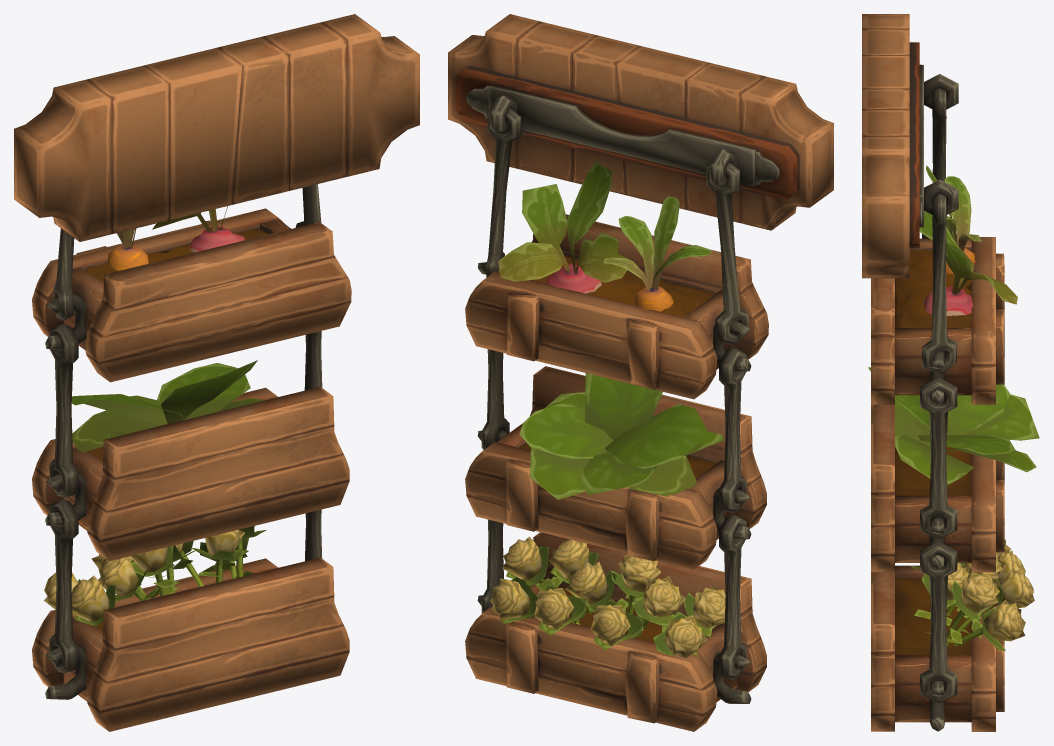
File: PlantShelf.obj
3 renders of one model, left to right at view 1: azimuth 30°, elevation 25°; view 2: azimuth 150°, elevation 25°; view 3: azimuth 270°, elevation 25°, orthographic. The views are drawn at different scales.
Visible parts, largest first — view 1: wallholder, shelf_modular_1, shelf_first, shelf_modular, flowers, spinnach, connector_modular, connector_modular_1, connector_first, rutabaga, carrot; view 2: wallholder, shelf_first, shelf_modular_1, shelf_modular, spinnach, flowers, rutabaga, connector_first, connector_modular, connector_modular_1, carrot; view 3: wallholder, shelf_first, shelf_modular_1, shelf_modular, spinnach, flowers, connector_first, connector_modular_1, connector_modular, rutabaga, carrot.
Boxes of the visible parts, x1,y1,x2,y2 form: wallholder: [14, 14, 419, 241]; shelf_modular_1: [32, 557, 349, 731]; shelf_first: [32, 208, 351, 382]; shelf_modular: [32, 387, 349, 561]; flowers: [44, 526, 266, 626]; spinnach: [71, 360, 265, 452]; connector_modular: [49, 324, 322, 497]; connector_modular_1: [49, 499, 322, 673]; connector_first: [54, 184, 321, 320]; rutabaga: [152, 206, 245, 252]; carrot: [107, 228, 149, 270]; wallholder: [448, 14, 833, 230]; shelf_first: [465, 214, 768, 399]; shelf_modular_1: [465, 532, 766, 731]; shelf_modular: [465, 366, 766, 569]; spinnach: [519, 373, 723, 499]; flowers: [490, 536, 725, 657]; rutabaga: [498, 161, 633, 293]; connector_first: [486, 108, 748, 345]; connector_modular: [481, 347, 746, 512]; connector_modular_1: [481, 514, 746, 679]; carrot: [603, 196, 711, 311]; wallholder: [862, 14, 958, 278]; shelf_first: [871, 237, 1004, 404]; shelf_modular_1: [871, 565, 1004, 731]; shelf_modular: [871, 404, 1004, 572]; spinnach: [868, 367, 1039, 484]; flowers: [911, 539, 1034, 650]; connector_first: [922, 87, 956, 374]; connector_modular_1: [920, 541, 957, 703]; connector_modular: [920, 377, 957, 539]; rutabaga: [919, 211, 1017, 316]; carrot: [926, 165, 981, 273].
Size of the model in its own units: 1.98 by 3.17 by 0.8562.
Materials: 2 (2 with a texture image).
